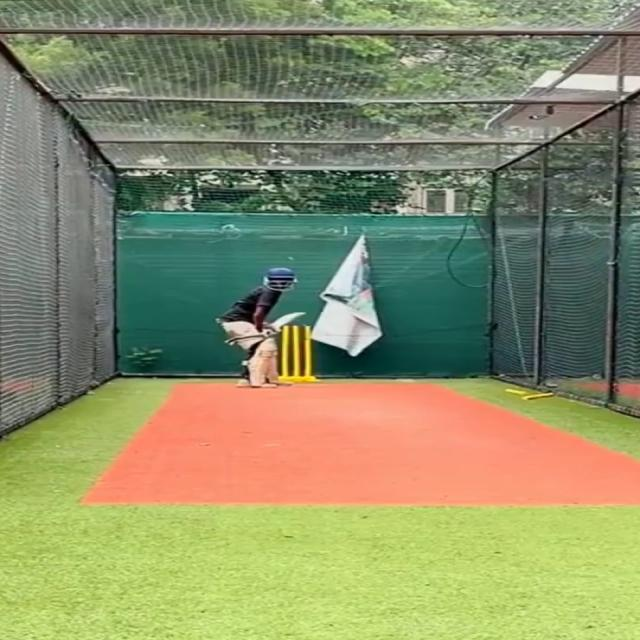stump: (280, 325, 315, 382)
